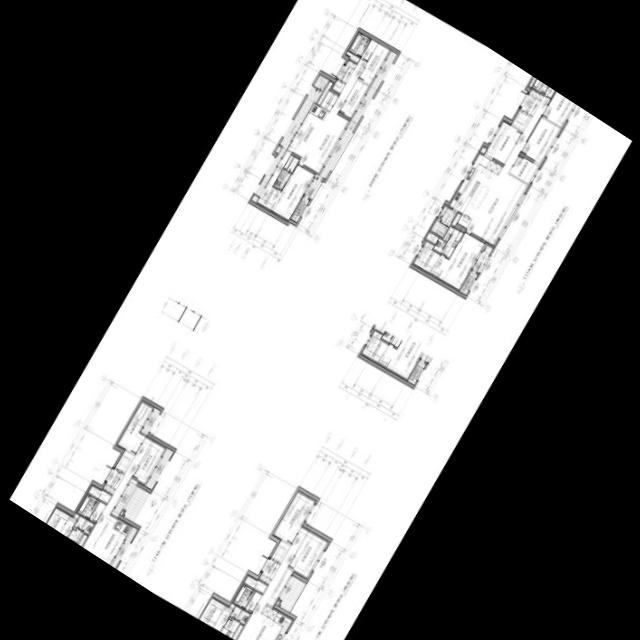background: (9, 0, 631, 640)
space_balconi: (304, 50, 397, 198), (251, 74, 328, 202), (146, 448, 173, 489), (278, 576, 305, 612), (123, 486, 149, 522), (430, 205, 457, 237), (113, 481, 136, 514), (472, 244, 493, 272), (142, 407, 160, 433)
space_bedroom: (429, 232, 485, 290), (271, 164, 314, 219), (273, 490, 316, 544), (117, 400, 153, 454), (288, 530, 328, 577), (521, 117, 561, 163), (485, 121, 522, 163), (132, 440, 166, 483), (358, 43, 390, 84), (339, 79, 369, 118), (542, 92, 575, 127)
space_dressroom: (257, 150, 291, 209), (413, 240, 440, 273), (199, 597, 225, 627), (46, 507, 69, 532)
space_front: (520, 89, 543, 116), (103, 468, 124, 493), (259, 558, 280, 583), (338, 59, 356, 83)
space_kitchen: (449, 153, 502, 219), (287, 103, 328, 157), (89, 515, 131, 565), (245, 604, 292, 640)
space_living_room: (466, 95, 550, 245), (236, 526, 308, 640), (82, 436, 153, 551), (299, 58, 367, 173)
space_other: (266, 567, 293, 607), (509, 155, 539, 183), (114, 450, 134, 472), (244, 574, 267, 593), (88, 484, 111, 503), (271, 540, 290, 562), (511, 110, 531, 130), (320, 90, 338, 110), (89, 501, 106, 522), (361, 39, 378, 60), (317, 81, 332, 104), (245, 591, 261, 612), (457, 214, 471, 227), (332, 79, 345, 92), (425, 231, 438, 243), (346, 51, 359, 62), (451, 212, 461, 225), (284, 154, 293, 168), (544, 87, 555, 98), (78, 534, 87, 546), (528, 77, 535, 87), (480, 145, 487, 153), (275, 145, 281, 153), (73, 512, 79, 518), (229, 603, 235, 608), (276, 600, 279, 605), (120, 511, 123, 515)
space_outdoor_room: (291, 196, 309, 222), (459, 270, 478, 294)
space_toilet: (220, 606, 250, 640), (433, 225, 463, 257), (273, 156, 299, 189), (67, 515, 94, 544), (77, 494, 99, 518), (349, 32, 370, 56), (233, 584, 254, 608), (532, 79, 548, 93)
